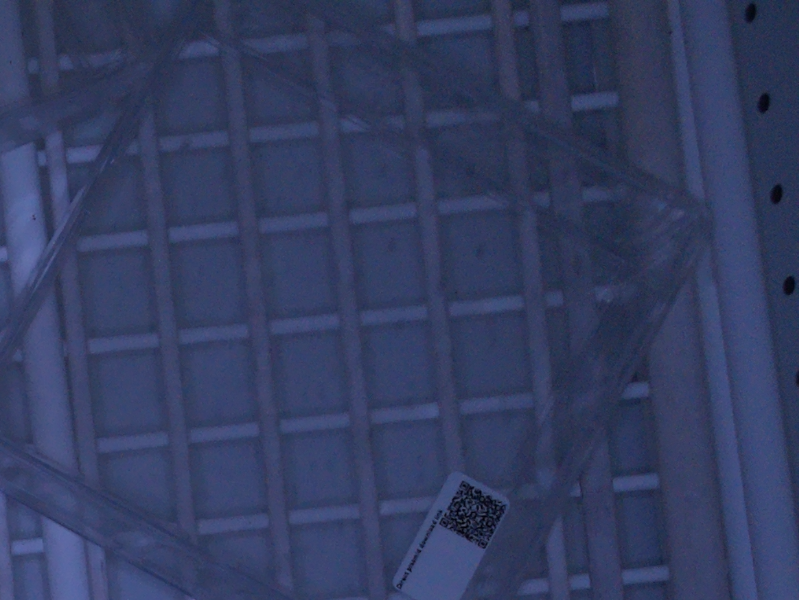plate: (1, 4, 715, 600)
